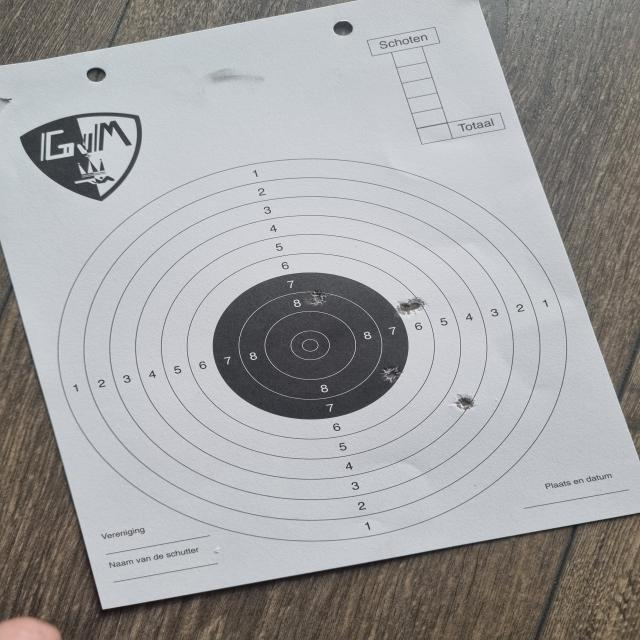5: (454, 393, 476, 412)
7: (408, 296, 428, 312)
8: (378, 366, 404, 384), (392, 300, 411, 315)
9: (305, 288, 329, 306)
Black Contour: (213, 273, 409, 419)
Target: (59, 158, 568, 542)
